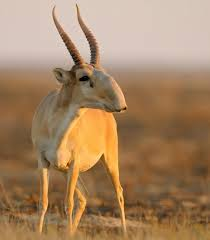saiga: (29, 4, 131, 236)
